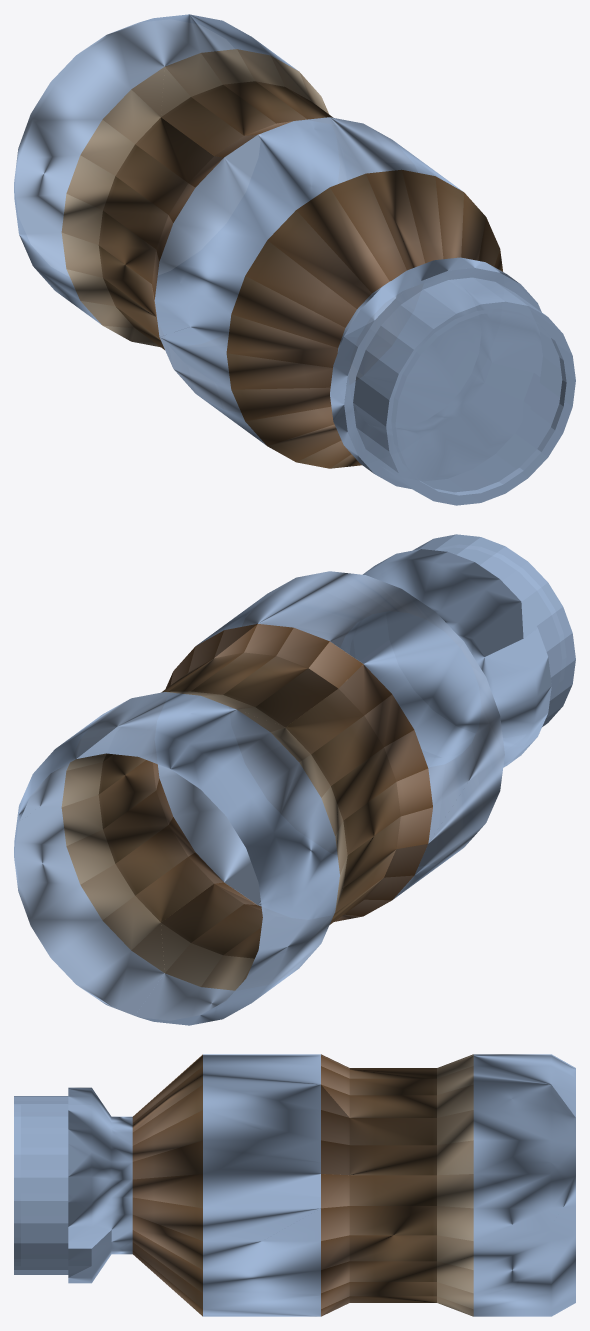
File: model_align.obj
3 views of the same model, one above another, from view 1: azimuth 30°, elevation 25°; view 2: azimuth 150°, elevation 25°; view 3: azimuth 270°, elevation 25° (orthographic). The views are drawn at different scales.
Size of the model in its own units: 0.1012 by 0.1012 by 0.2158.
